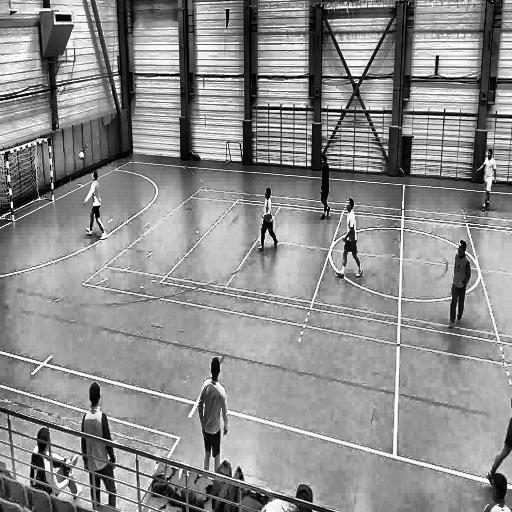ball: (78, 149, 86, 162)
player: (80, 382, 118, 508), (198, 354, 231, 472), (336, 197, 364, 281), (447, 238, 471, 331), (83, 170, 110, 243), (256, 183, 278, 255), (476, 148, 498, 214), (319, 154, 331, 224)
